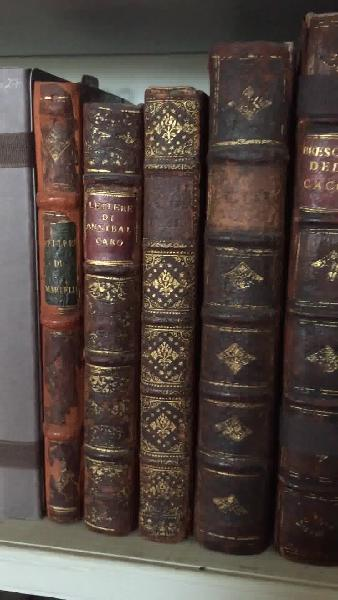Aa6-27: (3, 61, 46, 528)
Aa6-28: (32, 76, 86, 526)
Aa6-29: (83, 91, 149, 534)
Aa6-30: (140, 77, 196, 549)
Aa6-31: (203, 40, 270, 555)
Aa6-32: (278, 13, 338, 565)
